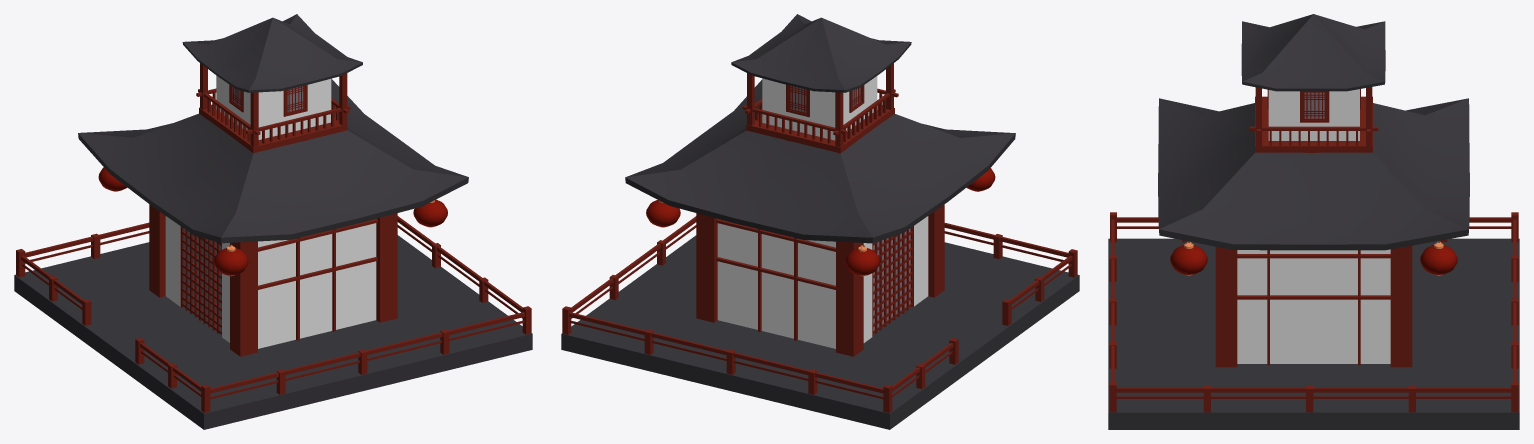
Rendered from houme02.fbx.
3 renders of one model, left to right at view 1: azimuth 30°, elevation 25°; view 2: azimuth 150°, elevation 25°; view 3: azimuth 270°, elevation 25°, orthographic. The views are drawn at different scales.
Visible parts, largest first — view 1: houme_02; view 2: houme_02; view 3: houme_02.
Part boxes in pixels (x1,y1,x2,y2): houme_02: (14, 14, 532, 429); houme_02: (561, 14, 1079, 429); houme_02: (1108, 14, 1519, 429).
Size of the model in its own units: 1200 by 1058 by 1200.
